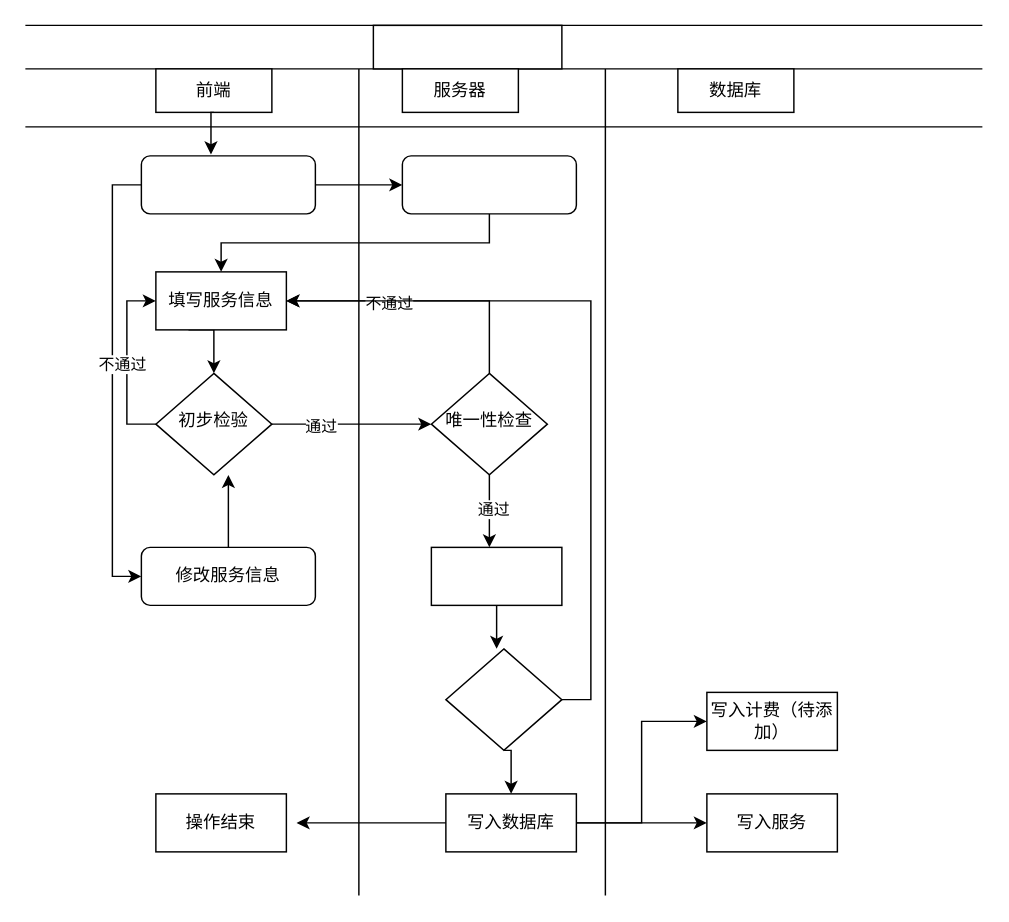
This 1009x922 diagram has some shape labels left out. Each missing label, with the box of its shape:
完善服务数据: (430, 546, 562, 605)
服务发布与修改: (372, 24, 562, 69)
管理员登录: (140, 154, 315, 214)
计费校验（暂时没有）: (444, 647, 562, 750)
返回基本服务信息: (401, 154, 576, 214)
